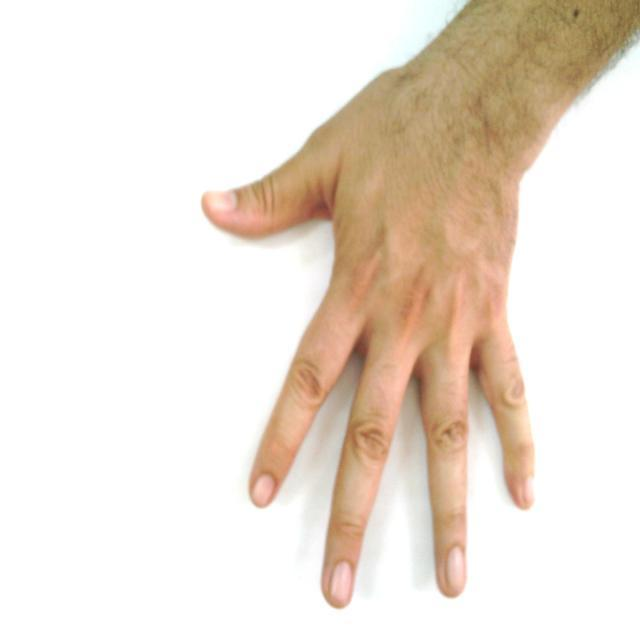Fingernail: (446, 547, 466, 593), (331, 563, 352, 606), (254, 476, 275, 505), (205, 192, 237, 211), (524, 479, 535, 506)
